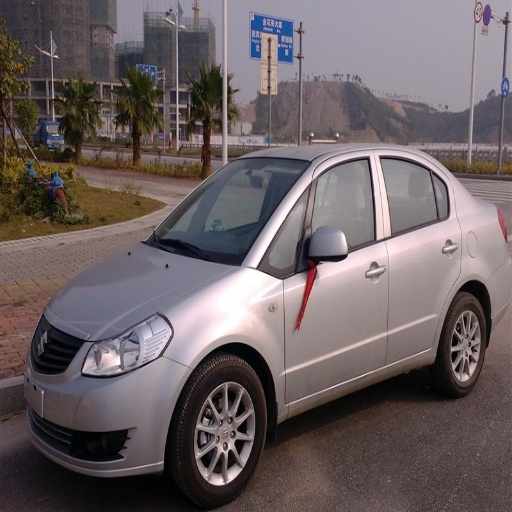back_left_door: (376, 153, 462, 363)
front_bumper: (25, 321, 190, 475)
front_glass: (146, 158, 308, 264)
front_left_door: (284, 153, 387, 404)
